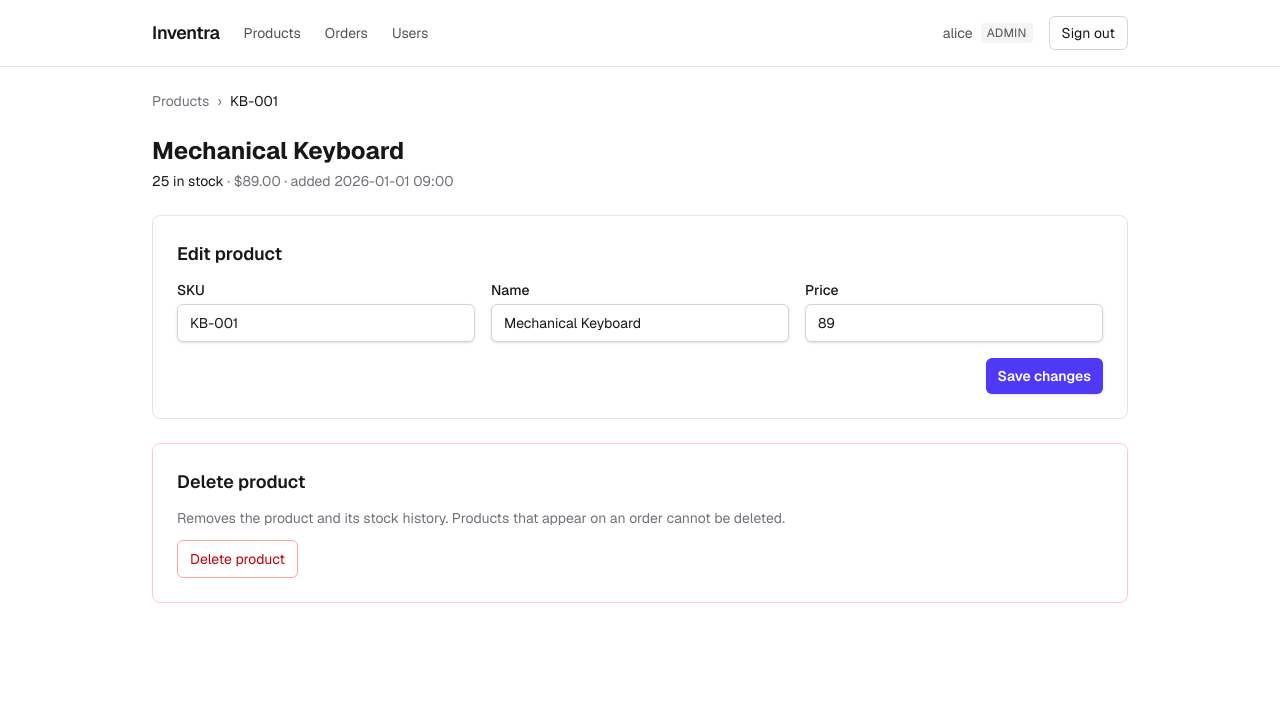
Scenario: ProductDetail › updates the heading and breadcrumb after a save
The image size is (1280, 720).
Replace the text in the field labelled "Name" with "Keyboard": coordinates (640, 323) x1=491 y1=304 x2=789 y2=342
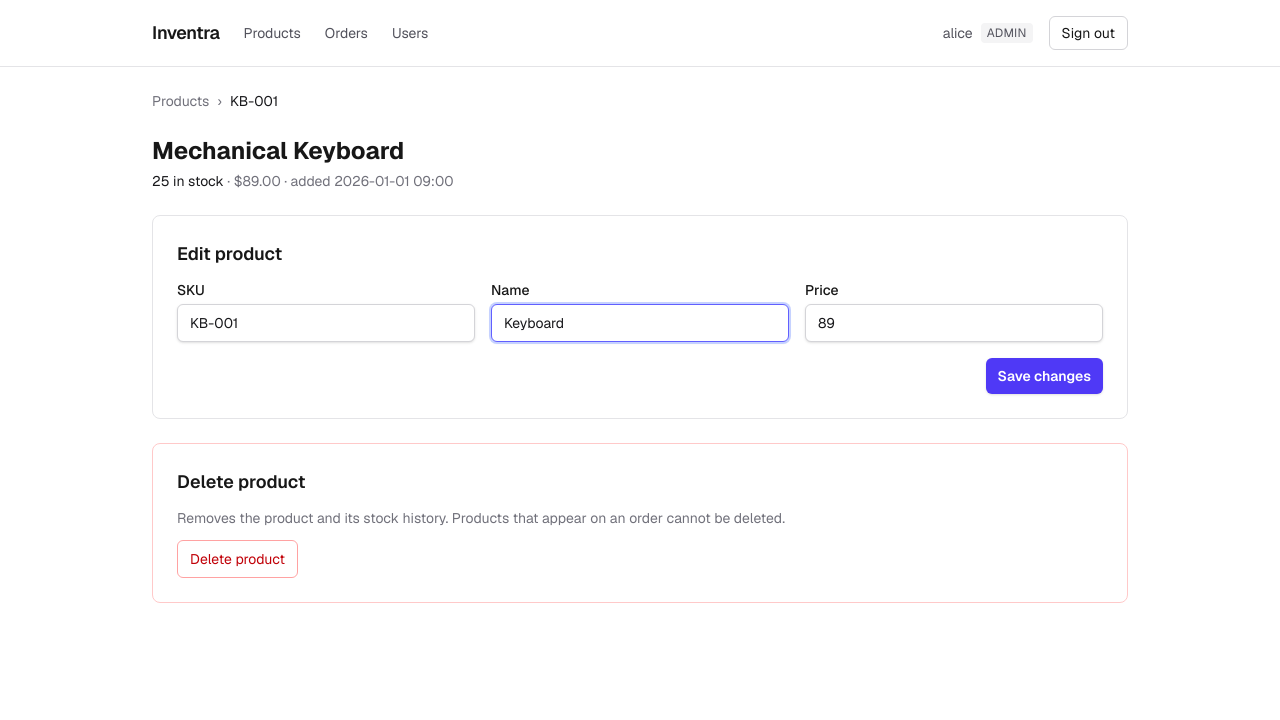
Replace the text in the field labelled "SKU" with "KB-100": coordinates (326, 323) x1=177 y1=304 x2=475 y2=342
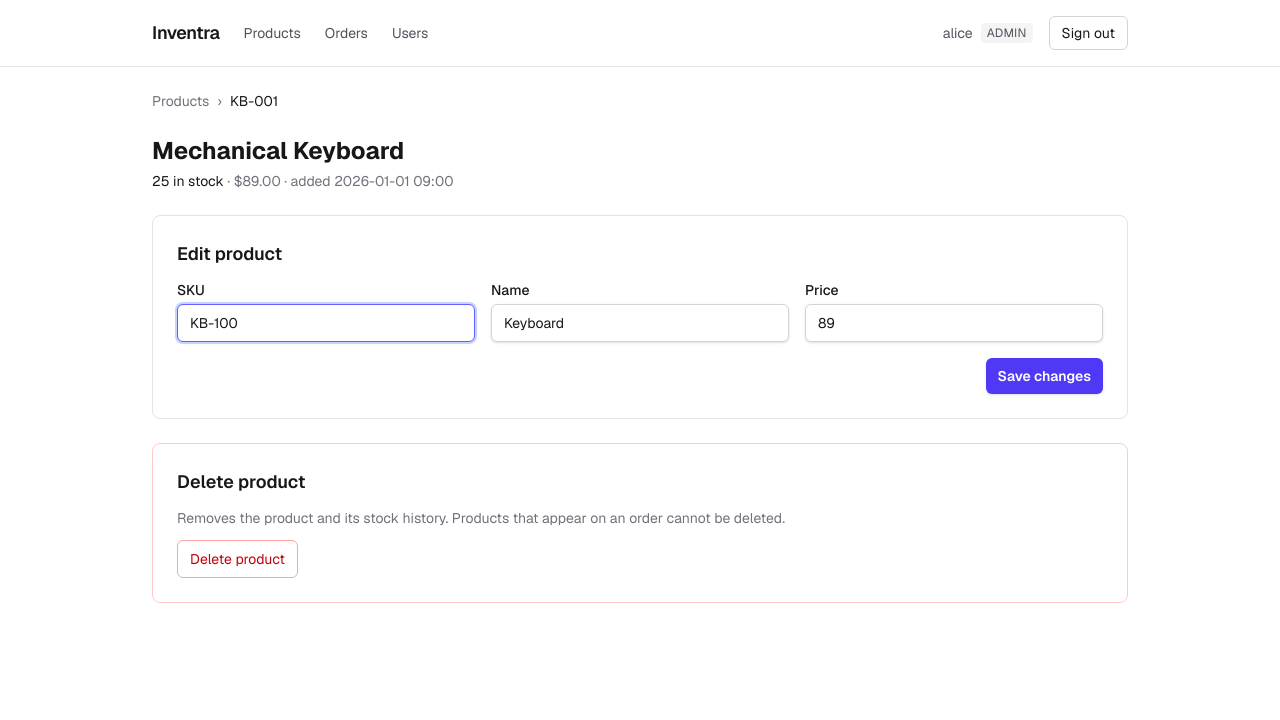
Click the button "Save changes": coordinates (1044, 376) x1=986 y1=358 x2=1103 y2=394
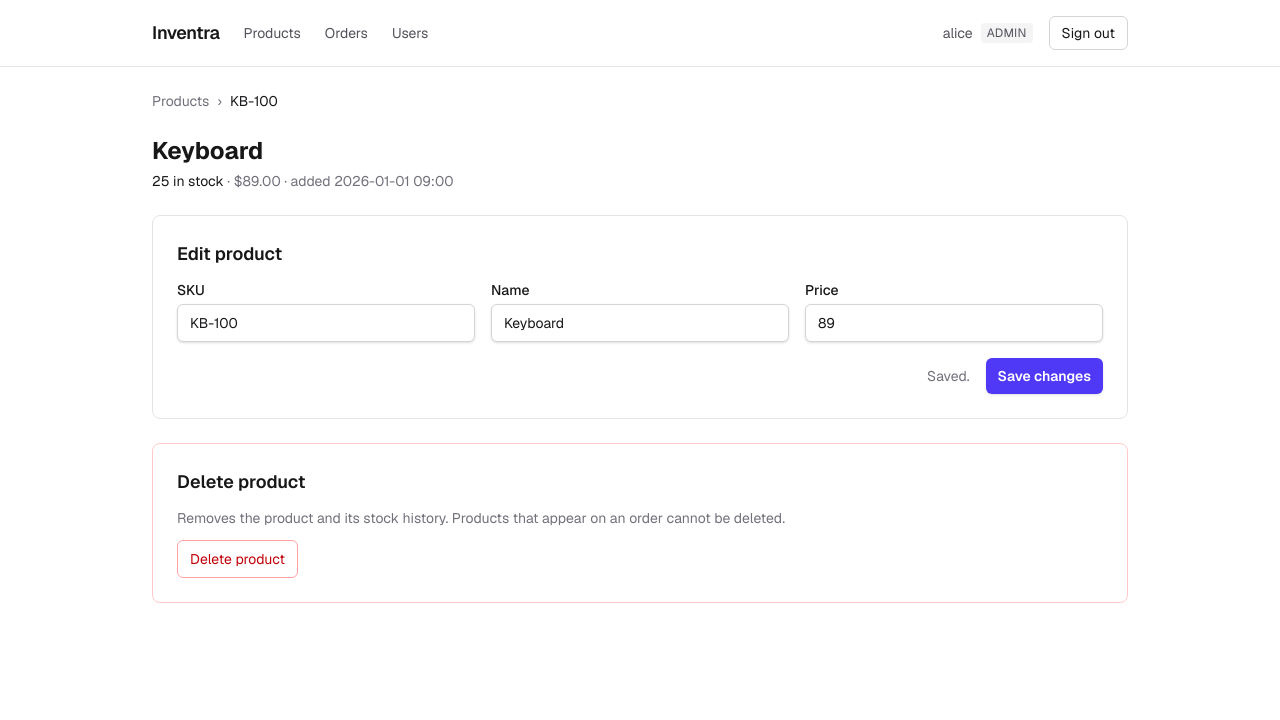
Expected: the heading "Keyboard" is shown, x1=152 y1=135 x2=263 y2=166
Result: the text "KB-100" is shown at x1=230 y1=91 x2=278 y2=111
